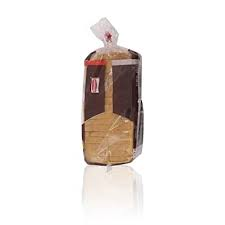bread: (75, 19, 144, 170)
